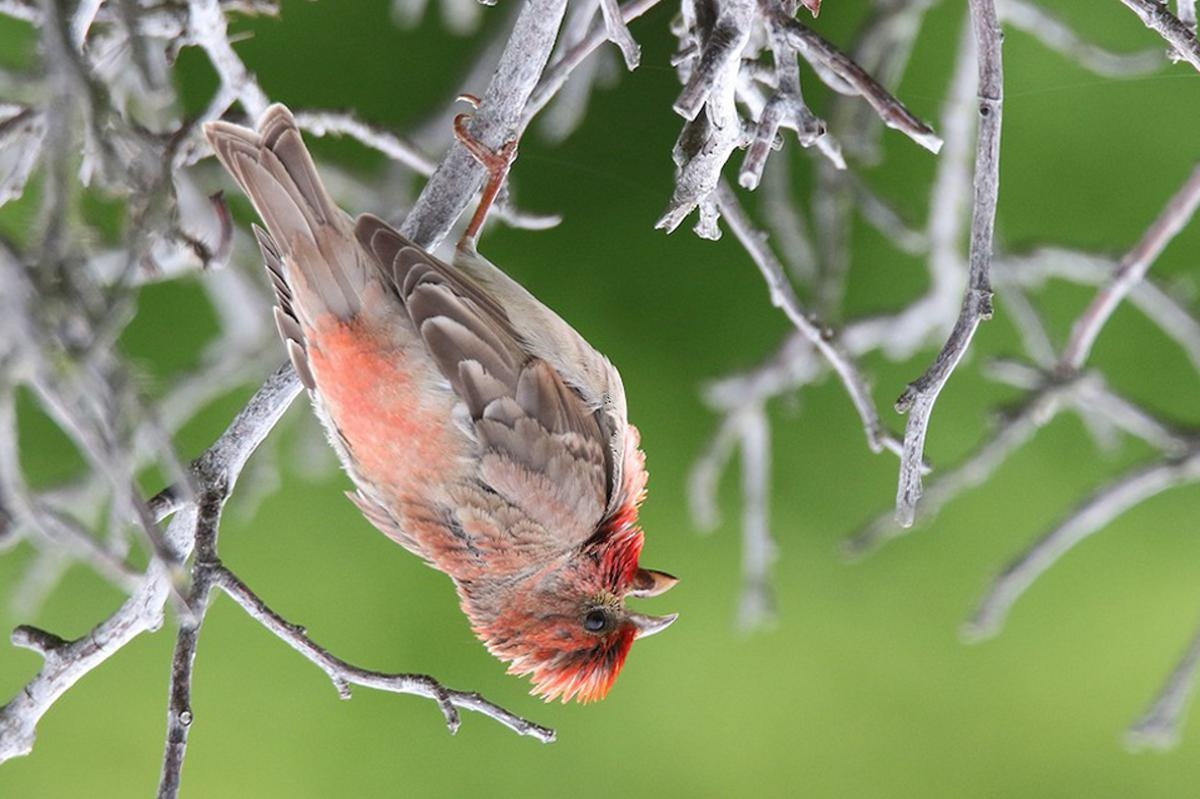rosefinch: (274, 181, 685, 704)
